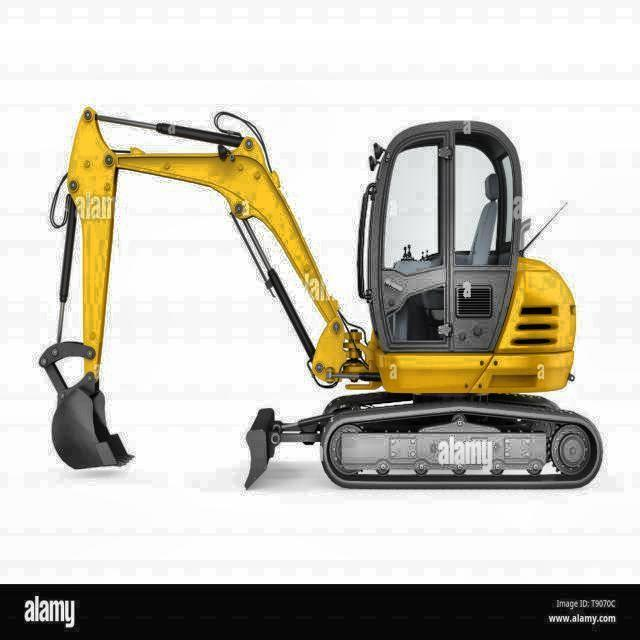excavator: (36, 104, 603, 492)
